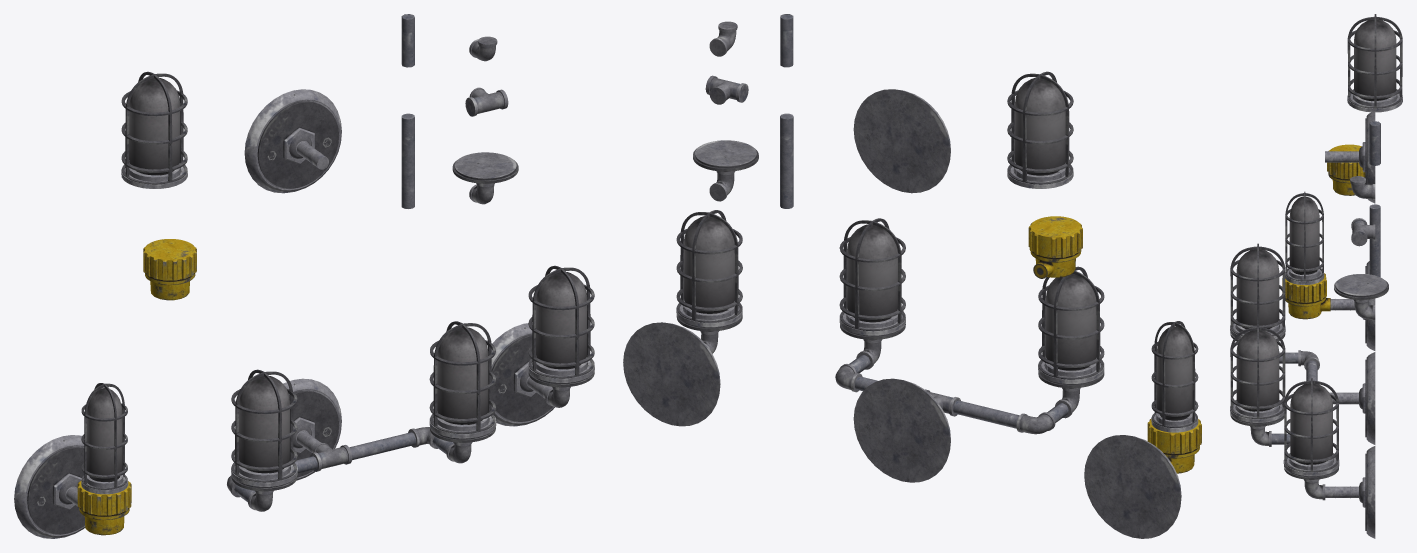
File: industrial_caged_sconce.glb
The picture shows the model from 3 angles, left to right: view 1: azimuth 30°, elevation 25°; view 2: azimuth 150°, elevation 25°; view 3: azimuth 270°, elevation 25°; orthographic projection. The views are drawn at different scales.
Visible parts, largest first — view 1: industrial_caged_sconce_c, industrial_caged_sconce_b, industrial_caged_sconce_a, industrial_caged_sconce_mount, industrial_caged_sconce_light, industrial_caged_sconce_base_a, industrial_caged_sconce_base_b, industrial_caged_sconce_pipe_long, industrial_caged_sconce_pipe_t, industrial_caged_sconce_pipe_short; view 2: industrial_caged_sconce_c, industrial_caged_sconce_a, industrial_caged_sconce_b, industrial_caged_sconce_mount, industrial_caged_sconce_light, industrial_caged_sconce_base_a, industrial_caged_sconce_base_b, industrial_caged_sconce_pipe_long, industrial_caged_sconce_pipe_t, industrial_caged_sconce_pipe_short; view 3: industrial_caged_sconce_c, industrial_caged_sconce_a, industrial_caged_sconce_b, industrial_caged_sconce_light, industrial_caged_sconce_base_b, industrial_caged_sconce_mount, industrial_caged_sconce_base_a, industrial_caged_sconce_pipe_long, industrial_caged_sconce_pipe_t, industrial_caged_sconce_pipe_short, industrial_caged_sconce_elbow.
Boxes of the visible parts, bbox=[...] form: industrial_caged_sconce_c: bbox=[227, 321, 496, 511]; industrial_caged_sconce_b: bbox=[14, 383, 131, 538]; industrial_caged_sconce_a: bbox=[491, 265, 594, 426]; industrial_caged_sconce_mount: bbox=[244, 89, 341, 193]; industrial_caged_sconce_light: bbox=[121, 71, 187, 188]; industrial_caged_sconce_base_a: bbox=[143, 239, 196, 300]; industrial_caged_sconce_base_b: bbox=[452, 152, 518, 204]; industrial_caged_sconce_pipe_long: bbox=[401, 113, 414, 208]; industrial_caged_sconce_pipe_t: bbox=[465, 87, 508, 116]; industrial_caged_sconce_pipe_short: bbox=[401, 14, 414, 67]; industrial_caged_sconce_c: bbox=[835, 218, 1104, 482]; industrial_caged_sconce_a: bbox=[623, 210, 742, 426]; industrial_caged_sconce_b: bbox=[1084, 321, 1201, 538]; industrial_caged_sconce_mount: bbox=[853, 89, 950, 193]; industrial_caged_sconce_light: bbox=[1007, 71, 1073, 188]; industrial_caged_sconce_base_a: bbox=[1028, 216, 1082, 278]; industrial_caged_sconce_base_b: bbox=[693, 140, 758, 201]; industrial_caged_sconce_pipe_long: bbox=[780, 113, 793, 208]; industrial_caged_sconce_pipe_t: bbox=[705, 75, 748, 104]; industrial_caged_sconce_pipe_short: bbox=[780, 14, 793, 67]; industrial_caged_sconce_c: bbox=[1230, 243, 1375, 446]; industrial_caged_sconce_a: bbox=[1283, 378, 1375, 538]; industrial_caged_sconce_b: bbox=[1282, 191, 1375, 350]; industrial_caged_sconce_light: bbox=[1347, 14, 1402, 112]; industrial_caged_sconce_base_b: bbox=[1334, 274, 1388, 320]; industrial_caged_sconce_mount: bbox=[1325, 110, 1375, 203]; industrial_caged_sconce_base_a: bbox=[1327, 144, 1365, 195]; industrial_caged_sconce_pipe_long: bbox=[1369, 204, 1380, 277]; industrial_caged_sconce_pipe_t: bbox=[1351, 218, 1375, 246]; industrial_caged_sconce_pipe_short: bbox=[1369, 121, 1380, 165]; industrial_caged_sconce_elbow: bbox=[1350, 176, 1375, 199].
Bounding box in the file's own units: 1.21 × 0.9128 × 0.3894.
Materials: 1 (1 with a texture image).
